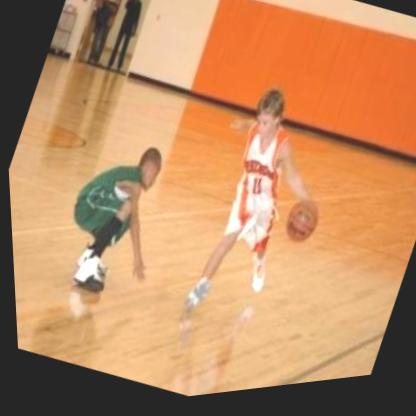basketball: (275, 197, 323, 255)
